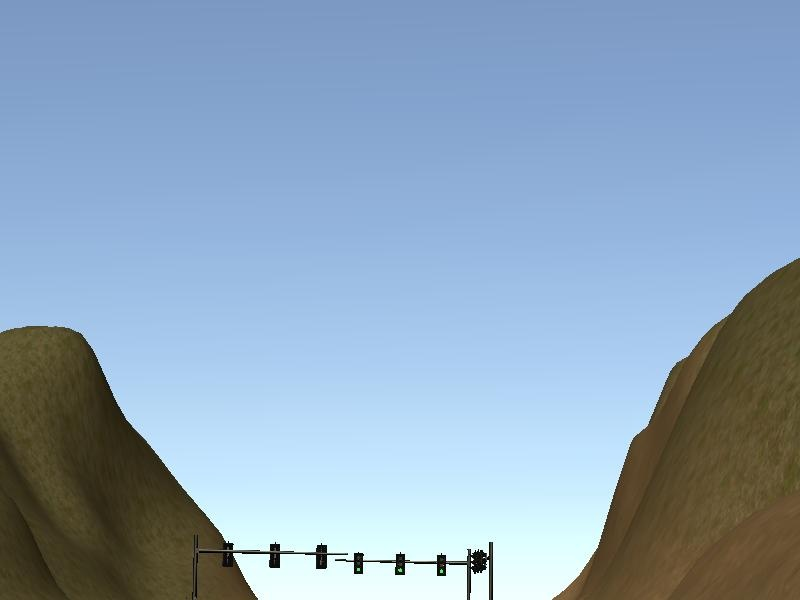green: (351, 553, 365, 576), (436, 555, 447, 579), (395, 554, 406, 577)
